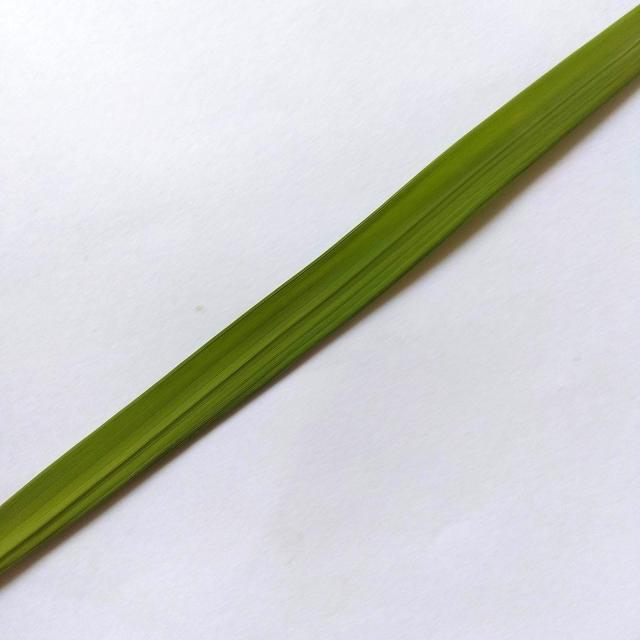healthy: (0, 0, 638, 583)
